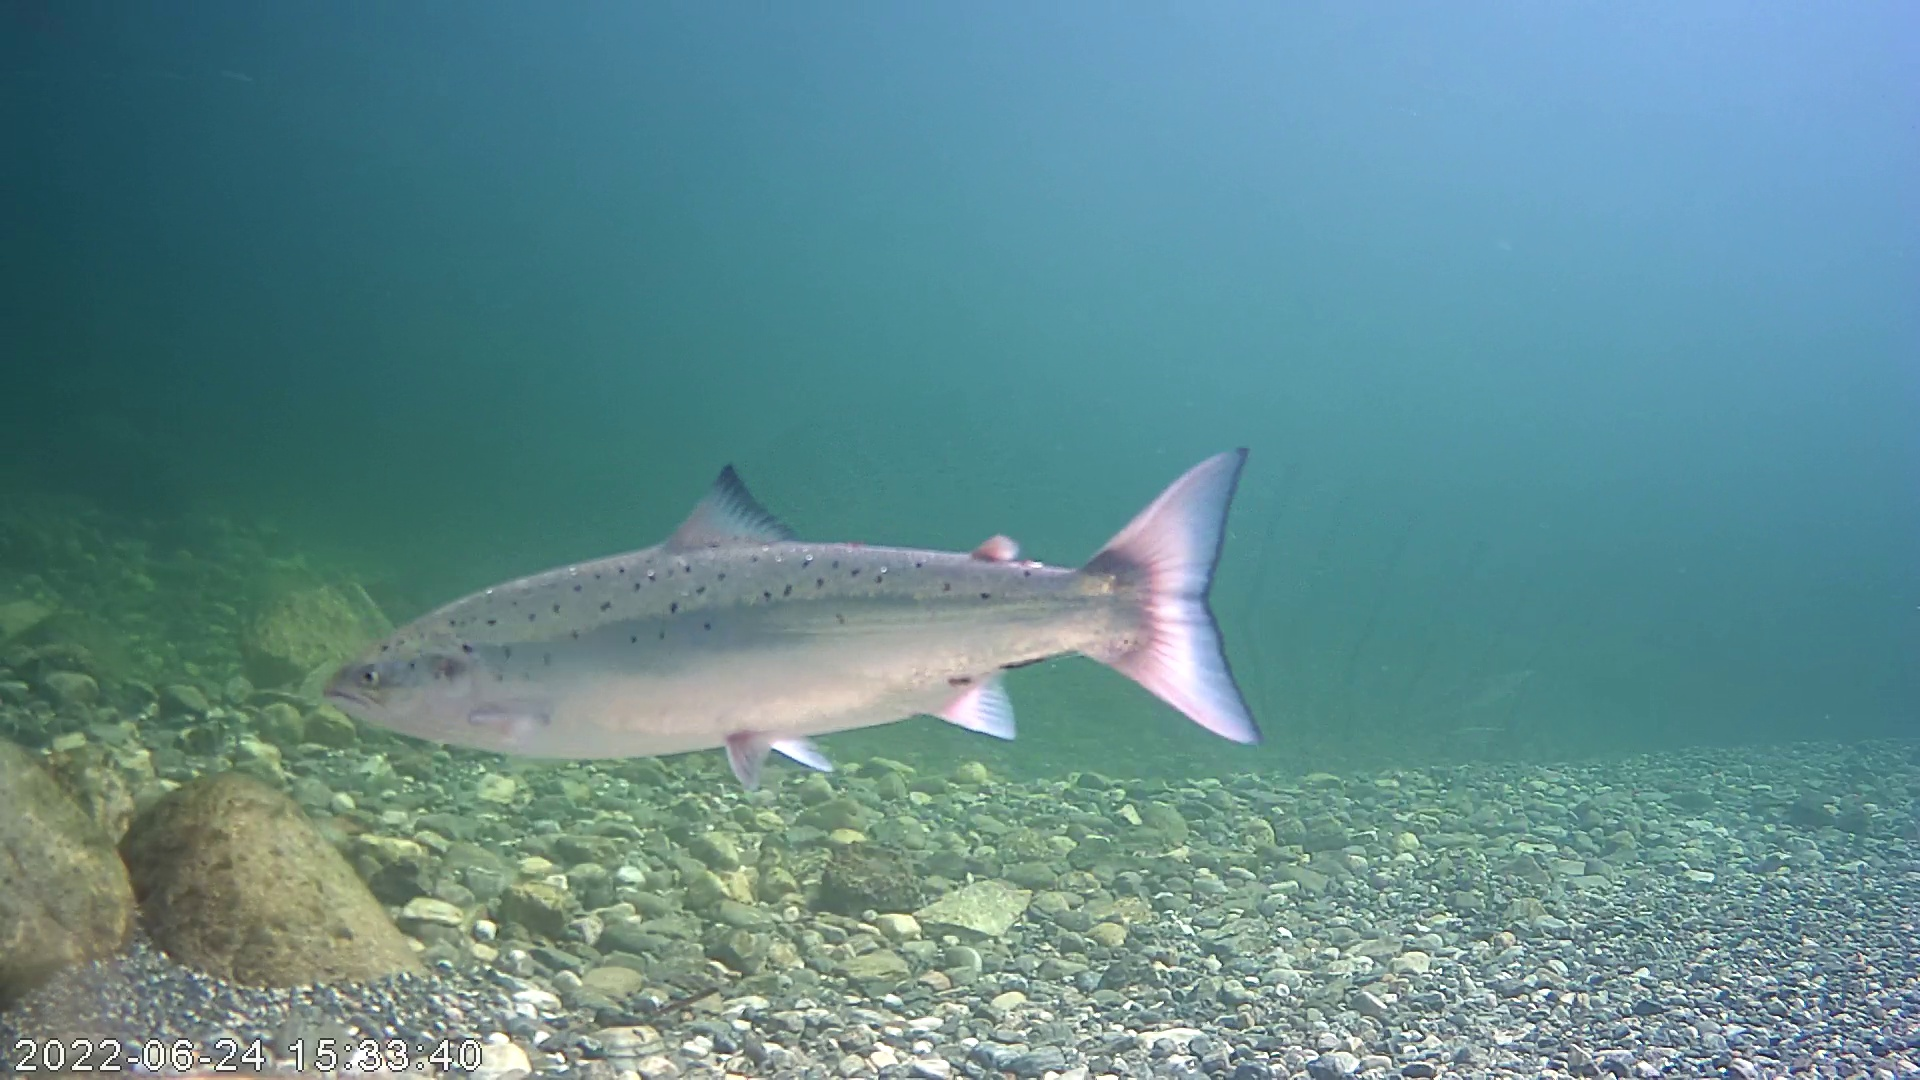salmon: (320, 443, 1263, 802)
